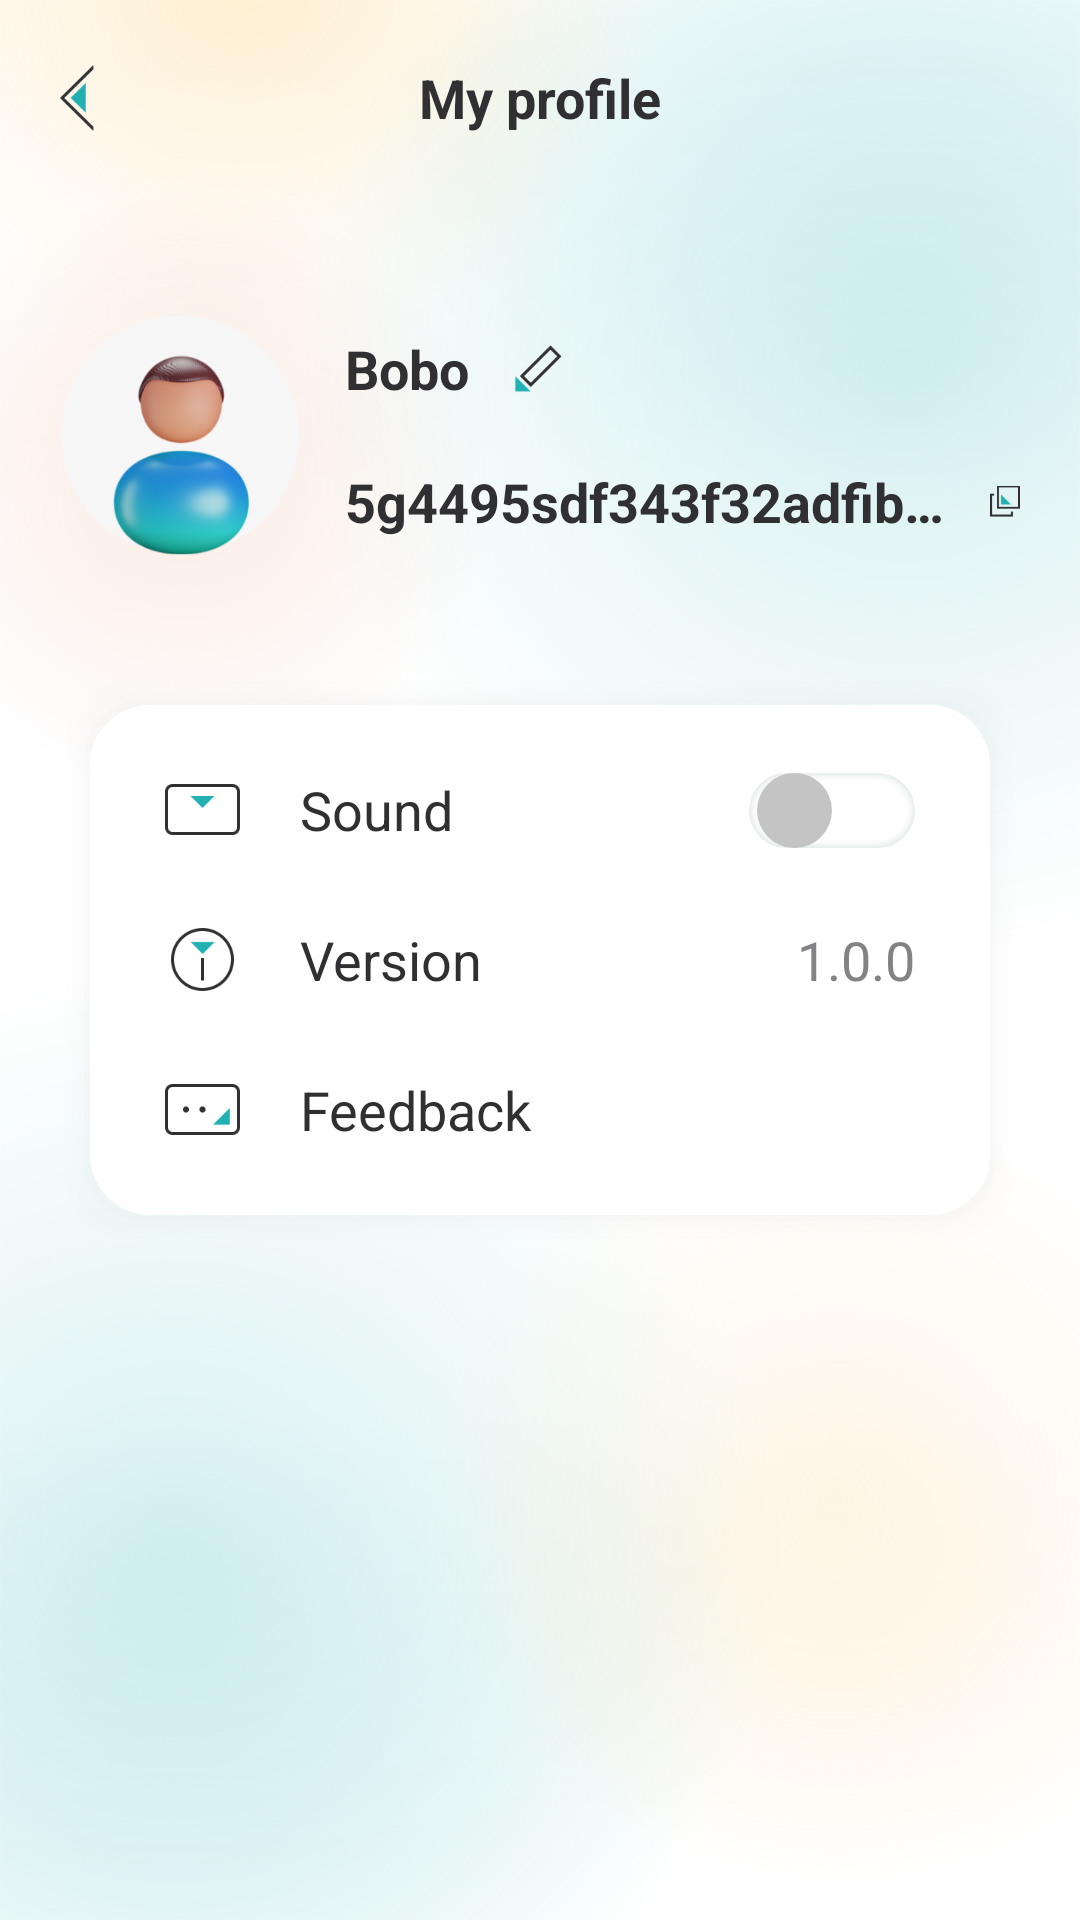

Where icons sit on this 1080w x 1920h app screen, as bbox=[x1, y1, x2, y2]:
angle back: bbox=[60, 65, 94, 131]
edit user name: bbox=[515, 345, 562, 392]
